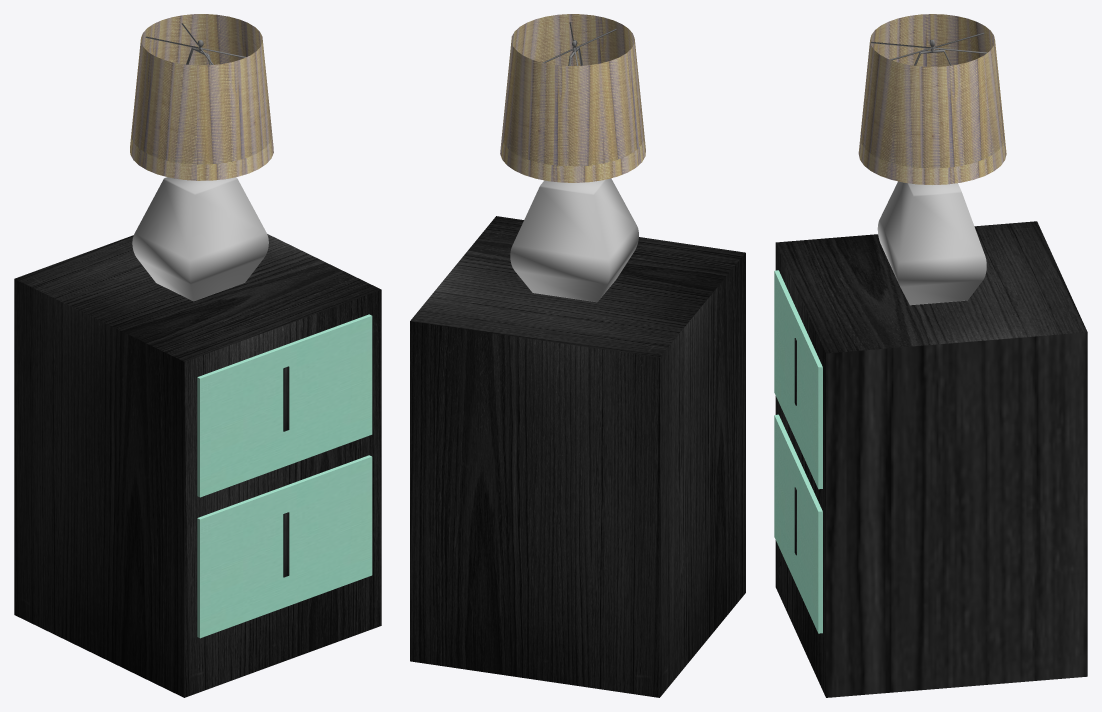
The model's file is lampara.obj.
3 renders of one model, left to right at view 1: azimuth 30°, elevation 25°; view 2: azimuth 150°, elevation 25°; view 3: azimuth 270°, elevation 25°, orthographic. The views are drawn at different scales.
Parts seen in each view (by area): view 1: polySurface6; view 2: polySurface6; view 3: polySurface6.
Boxes of the visible parts, <box> form: polySurface6: <box>14,14,381,697</box>; polySurface6: <box>410,14,745,697</box>; polySurface6: <box>774,14,1087,697</box>.
Size of the model in its own units: 3.25 by 6.8 by 3.25.
